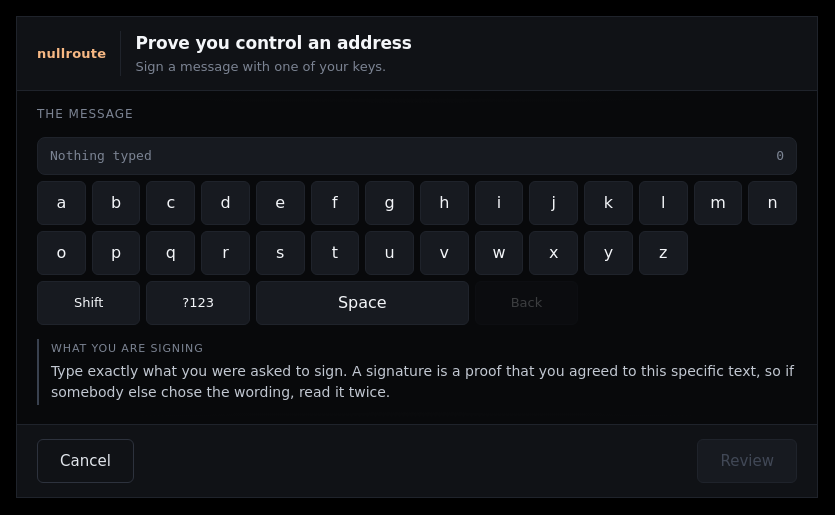
Test: MessageScreen › refuses-to-sign-a-message-the-review-rejected
Click the button "h".
click(444, 203)  # box [420,181,469,225]
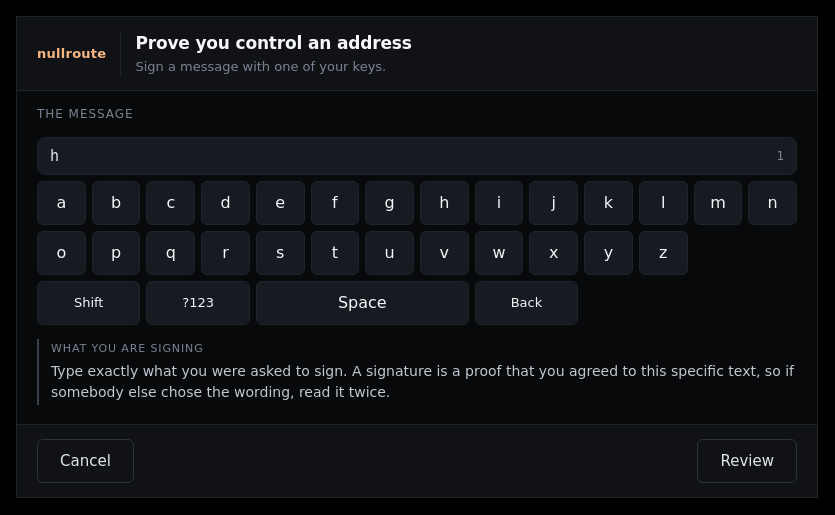
Click the button "i".
click(499, 203)  # box [475,181,523,225]
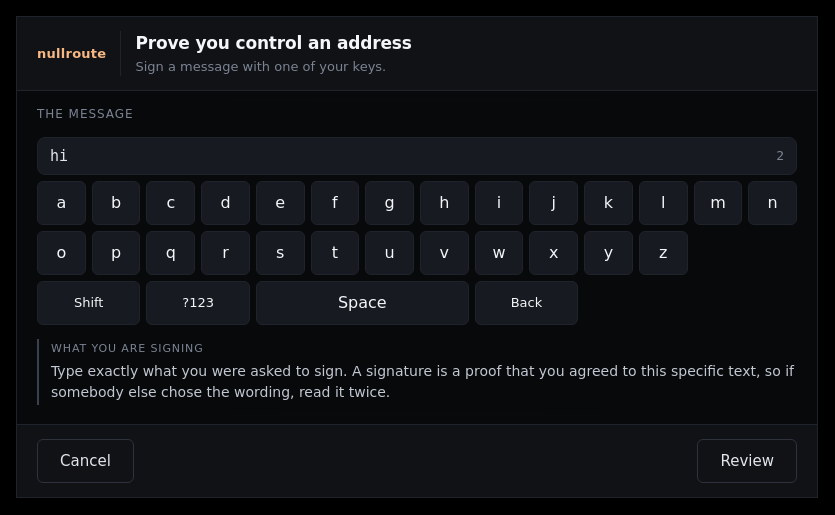
Click the button with test id "message-review".
click(747, 461)  # box [698,439,797,483]
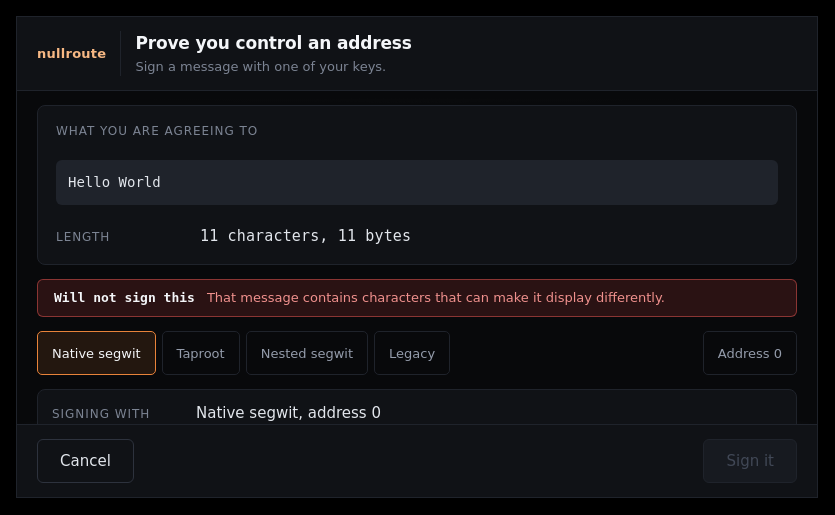
Expected: the text "Hello World" is shown, [56,160,778,205]
Expected: the element with test id "message-refusal" shows "display differently", [207,290,665,304]
Expected: the button with test id "message-sign" is disabled, [704,439,797,483]
